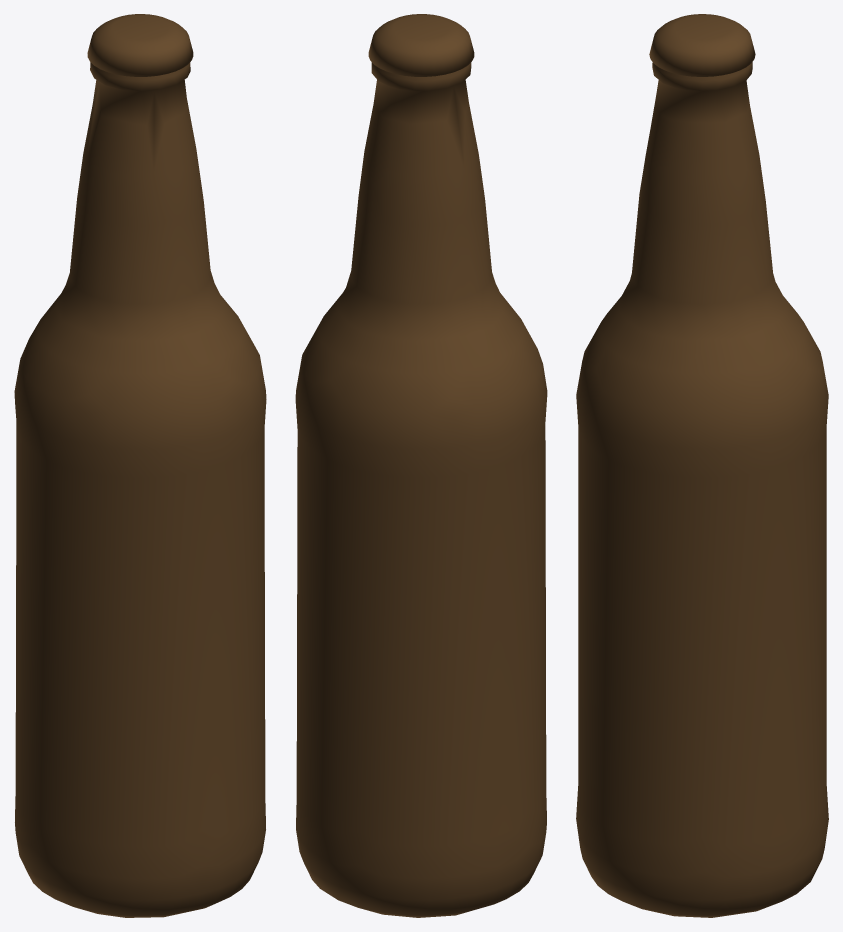
Rendered from garrafa.glb.
3 renders of one model, left to right at view 1: azimuth 30°, elevation 25°; view 2: azimuth 150°, elevation 25°; view 3: azimuth 270°, elevation 25°, orthographic.
Parts seen in each view (by area): view 1: Cylinder, Cylinder.001; view 2: Cylinder, Cylinder.001; view 3: Cylinder, Cylinder.001.
Part boxes in pixels (<box>): Cylinder: <box>14,62,266,917</box>; Cylinder.001: <box>87,14,193,76</box>; Cylinder: <box>295,62,547,917</box>; Cylinder.001: <box>368,14,474,76</box>; Cylinder: <box>576,62,828,917</box>; Cylinder.001: <box>649,14,755,76</box>.
Bounding box in the file's own units: 0.0737 × 0.2745 × 0.0737.
